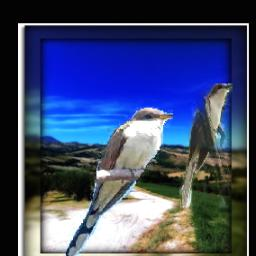Cuckoo: (63, 108, 174, 256), (180, 83, 233, 208)
